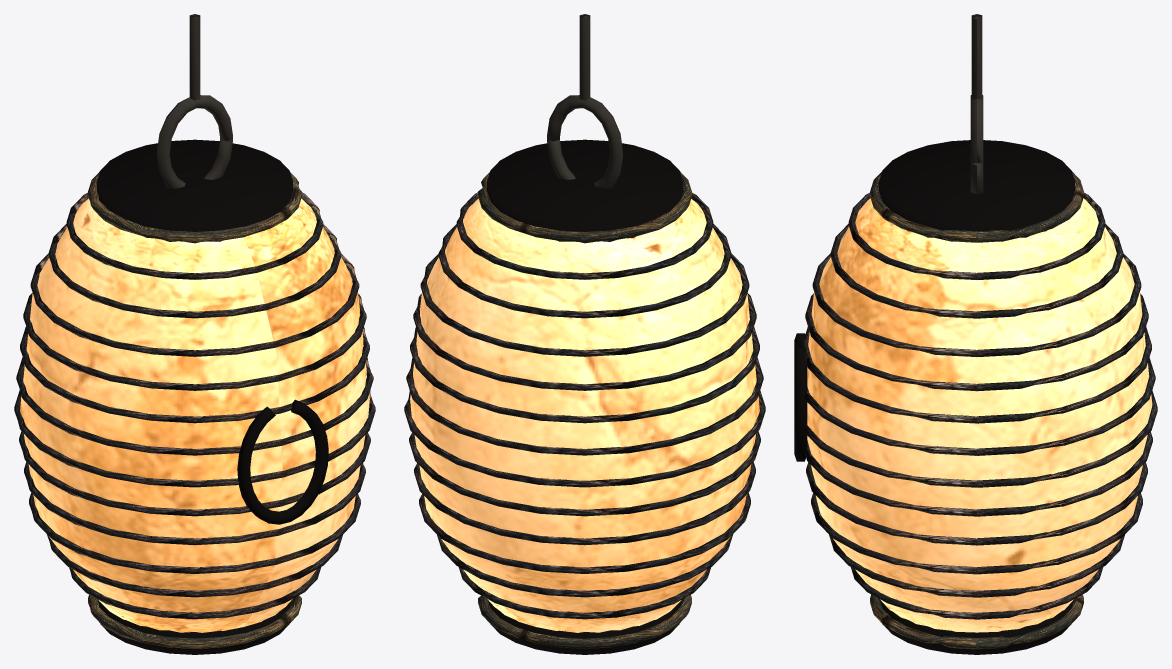
File: nyanisyarud-hyakken-lantern.glb
The picture shows the model from 3 angles, left to right: view 1: azimuth 30°, elevation 25°; view 2: azimuth 150°, elevation 25°; view 3: azimuth 270°, elevation 25°; orthographic projection.
Parts seen in each view (by area): view 1: Lantern; view 2: Lantern; view 3: Lantern.
Part boxes in pixels (x1=…): Lantern: x1=14, y1=14, x2=375, y2=654; Lantern: x1=404, y1=14, x2=765, y2=654; Lantern: x1=794, y1=14, x2=1157, y2=654.
Bounding box in the file's own units: 0.8885 × 1.62 × 0.8913.
Materials: 5 (5 with a texture image).
